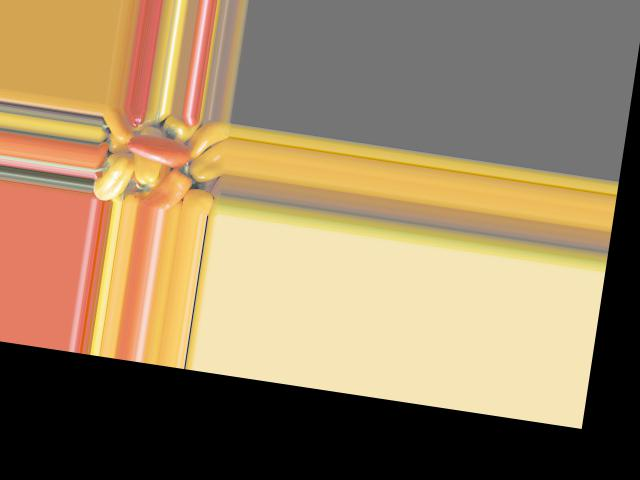bell_pepper: (91, 153, 137, 202)
